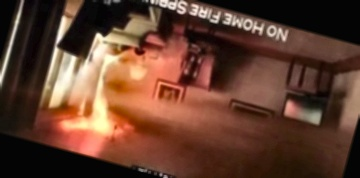fire: (52, 32, 154, 161)
